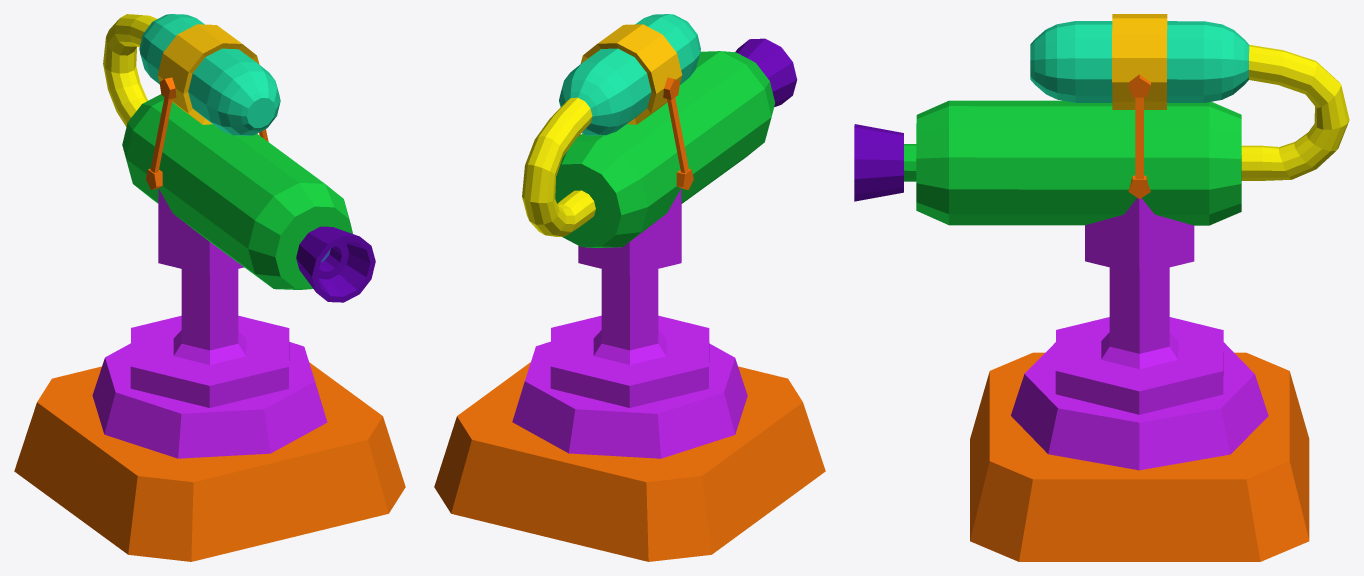
Rendered from TurretV10.fbx.
3 views of the same model, side by side, from view 1: azimuth 30°, elevation 25°; view 2: azimuth 150°, elevation 25°; view 3: azimuth 270°, elevation 25° (orthographic). The views are drawn at different scales.
Parts seen in each view (by area): view 1: AmmoTank-Holder.002, Plattform; view 2: AmmoTank-Holder.002, Plattform; view 3: AmmoTank-Holder.002, Plattform.
Boxes of the visible parts, x1=… form: AmmoTank-Holder.002: x1=92, y1=14, x2=375, y2=458; Plattform: x1=14, y1=362, x2=405, y2=561; AmmoTank-Holder.002: x1=512, y1=14, x2=797, y2=458; Plattform: x1=434, y1=362, x2=825, y2=561; AmmoTank-Holder.002: x1=854, y1=14, x2=1349, y2=470; Plattform: x1=970, y1=352, x2=1309, y2=561.
Size of the model in its own units: 100 by 154 by 146.
